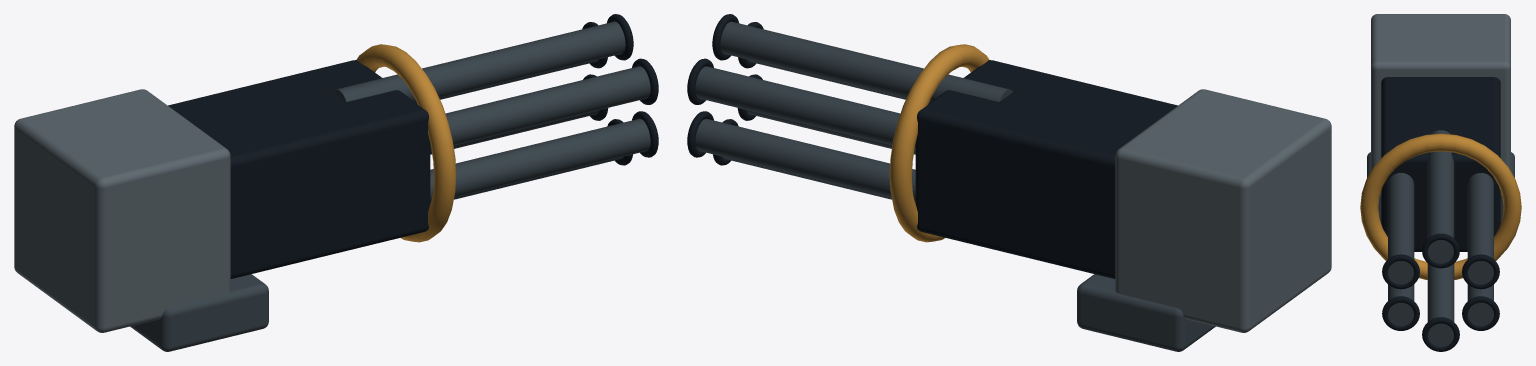
3 views of the same model, side by side, from view 1: azimuth 30°, elevation 25°; view 2: azimuth 150°, elevation 25°; view 3: azimuth 270°, elevation 25° (orthographic). The views are drawn at different scales.
Size of the model in its own units: 6.34 by 2.15 by 1.96.
